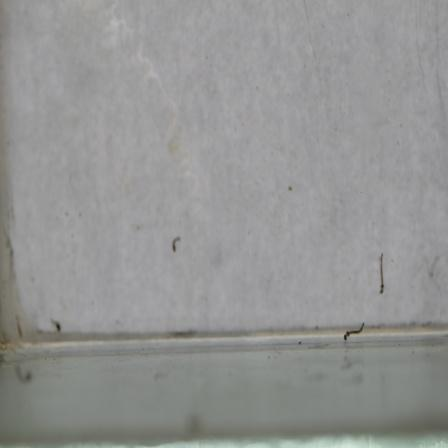Jentik-Nyamuk: (375, 249, 389, 297), (341, 319, 368, 343), (48, 315, 66, 336), (167, 232, 184, 254)
